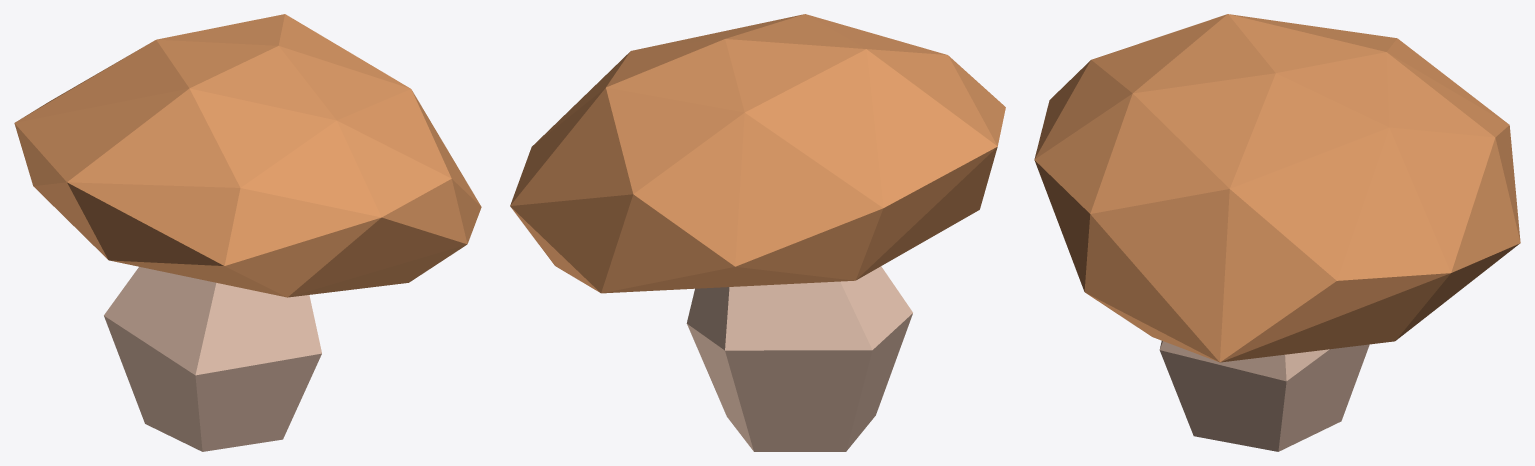
Rendered from Mushroom_f_03.fbx.
3 renders of one model, left to right at view 1: azimuth 30°, elevation 25°; view 2: azimuth 150°, elevation 25°; view 3: azimuth 270°, elevation 25°, orthographic. The views are drawn at different scales.
Parts seen in each view (by area): view 1: Mushroom_f_03; view 2: Mushroom_f_03; view 3: Mushroom_f_03.
Boxes of the visible parts, <box> form: Mushroom_f_03: <box>14,14,481,451</box>; Mushroom_f_03: <box>510,14,1005,451</box>; Mushroom_f_03: <box>1034,14,1520,451</box>.
Size of the model in its own units: 23.63 by 19.64 by 22.66.
